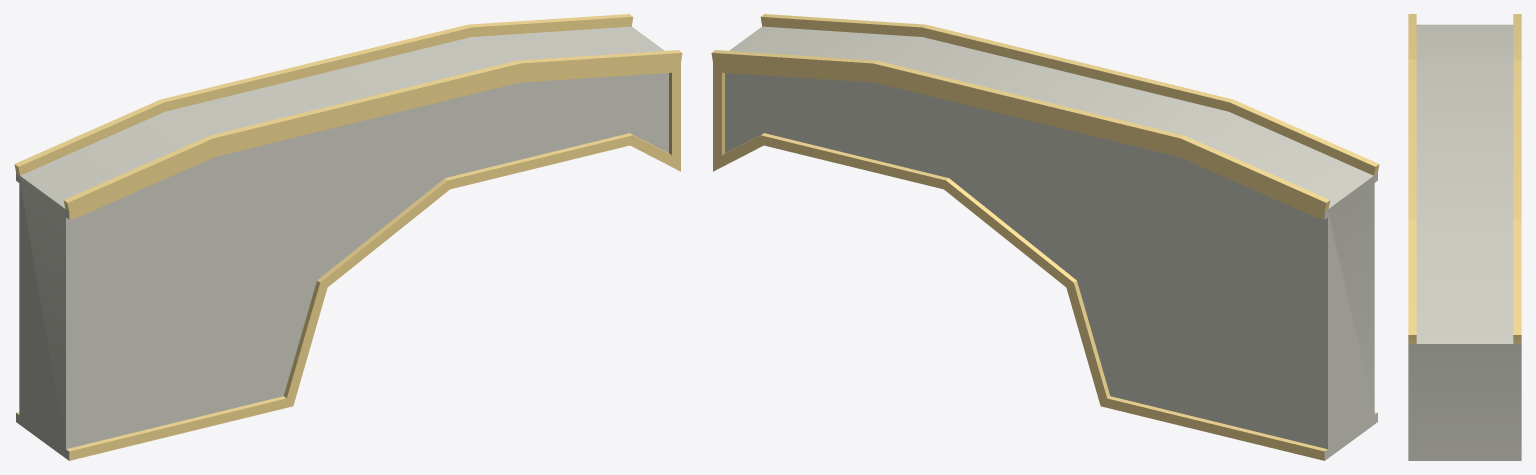
The model's file is Building_Castle_Joining_Bridge_01.fbx.
3 views of the same model, side by side, from view 1: azimuth 30°, elevation 25°; view 2: azimuth 150°, elevation 25°; view 3: azimuth 270°, elevation 25° (orthographic). The views are drawn at different scales.
Visible parts, largest first — view 1: Building_Castle_Joining_Bridge_01; view 2: Building_Castle_Joining_Bridge_01; view 3: Building_Castle_Joining_Bridge_01.
Part boxes in pixels (box(x1,y1,x2,y2)): Building_Castle_Joining_Bridge_01: box(14, 14, 682, 460); Building_Castle_Joining_Bridge_01: box(711, 14, 1379, 460); Building_Castle_Joining_Bridge_01: box(1408, 14, 1521, 460).
Size of the model in its own units: 670 by 299 by 100.
